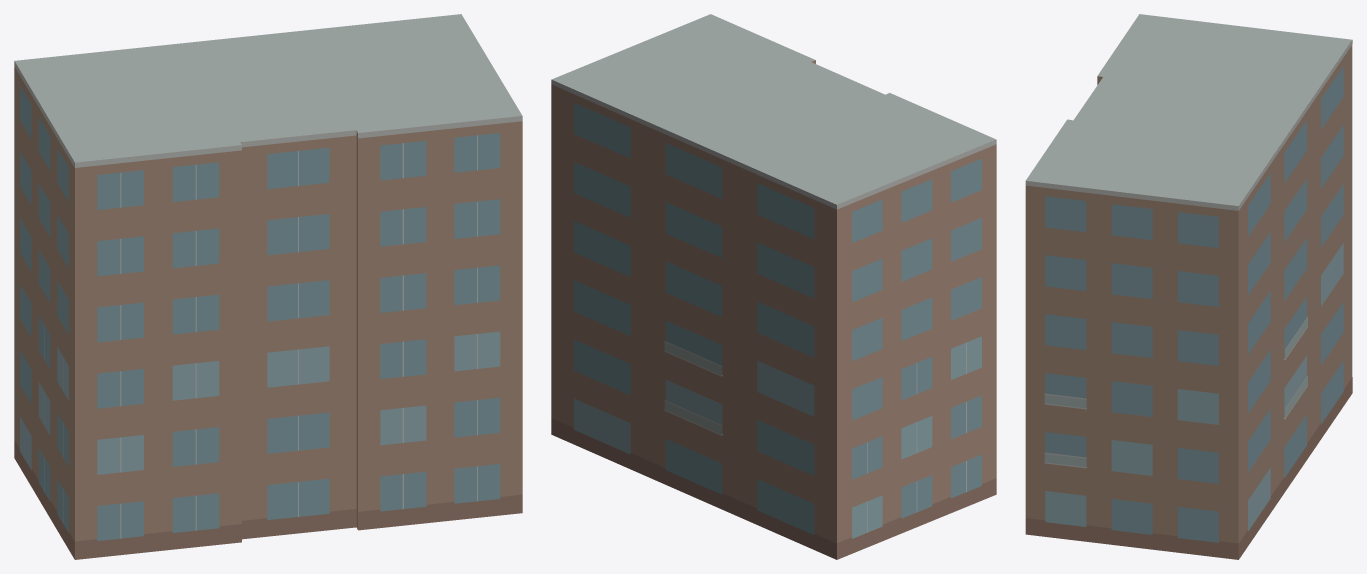
The model's file is survey-upis-32994918.glb.
The picture shows the model from 3 angles, left to right: view 1: azimuth 30°, elevation 25°; view 2: azimuth 150°, elevation 25°; view 3: azimuth 270°, elevation 25°; orthographic projection. The views are drawn at different scales.
Visible parts, largest first — view 1: survey-upis-32994918.tmp; view 2: survey-upis-32994918.tmp; view 3: survey-upis-32994918.tmp.
Boxes of the visible parts, x1=… form: survey-upis-32994918.tmp: x1=14, y1=14, x2=522, y2=559; survey-upis-32994918.tmp: x1=551, y1=14, x2=996, y2=559; survey-upis-32994918.tmp: x1=1025, y1=14, x2=1352, y2=559.
Bounding box in the file's own units: 21.34 × 18.3 × 15.34.
